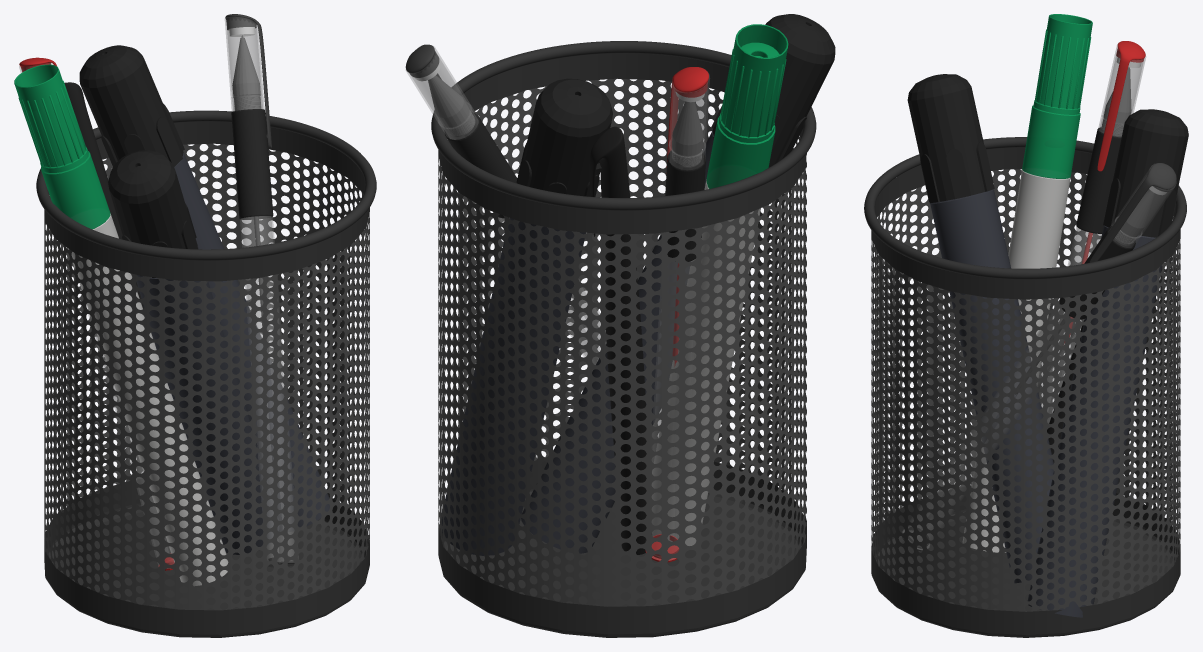
Rendered from pen_holder.glb.
3 renders of one model, left to right at view 1: azimuth 30°, elevation 25°; view 2: azimuth 150°, elevation 25°; view 3: azimuth 270°, elevation 25°, orthographic. The views are drawn at different scales.
Parts seen in each view (by area): view 1: Object008_04 - Default_0, Cylinder001, Object007_11 - Default_0, Object014_Ceramic_0, Cylinder030, Object001_06 - Default_0, Object009_05 - Default_0, Circle001, Object015_11 - Default_0, Cylinder024, Object013_Solid Glass_0, Cylinder026 (+3 smaller); view 2: Object008_04 - Default_0, Cylinder001, Cylinder024, Circle001, Object009_05 - Default_0, Object007_11 - Default_0, Object001_06 - Default_0, Object004_Ceramic_0, Cylinder026, Cylinder030, Object015_11 - Default_0, Object014_Ceramic_0 (+6 smaller); view 3: Object008_04 - Default_0, Cylinder001, Cylinder030, Cylinder024, Object015_11 - Default_0, Object009_05 - Default_0, Object001_06 - Default_0, Object007_11 - Default_0, Circle001, Object014_Ceramic_0, Object004_Ceramic_0, Object002_Solid Glass_0 (+6 smaller).
Boxes of the visible parts, x1=… form: Object008_04 - Default_0: x1=44, y1=143, x2=369, y2=610; Cylinder001: x1=44, y1=121, x2=369, y2=637; Object007_11 - Default_0: x1=79, y1=45, x2=184, y2=166; Object014_Ceramic_0: x1=225, y1=17, x2=298, y2=561; Cylinder030: x1=136, y1=246, x2=279, y2=554; Object001_06 - Default_0: x1=67, y1=213, x2=228, y2=586; Object009_05 - Default_0: x1=14, y1=64, x2=110, y2=229; Circle001: x1=36, y1=110, x2=376, y2=260; Object015_11 - Default_0: x1=108, y1=150, x2=197, y2=277; Cylinder024: x1=174, y1=153, x2=329, y2=531; Object013_Solid Glass_0: x1=231, y1=109, x2=273, y2=219; Cylinder026: x1=64, y1=82, x2=153, y2=338; Object008_04 - Default_0: x1=438, y1=78, x2=806, y2=606; Cylinder001: x1=438, y1=53, x2=806, y2=637; Cylinder024: x1=442, y1=218, x2=585, y2=555; Circle001: x1=431, y1=41, x2=816, y2=210; Object009_05 - Default_0: x1=706, y1=24, x2=788, y2=188; Object007_11 - Default_0: x1=516, y1=78, x2=612, y2=196; Object001_06 - Default_0: x1=652, y1=179, x2=760, y2=545; Object004_Ceramic_0: x1=651, y1=74, x2=709, y2=560; Cylinder026: x1=589, y1=126, x2=651, y2=554; Cylinder030: x1=521, y1=131, x2=713, y2=553; Object015_11 - Default_0: x1=711, y1=14, x2=835, y2=167; Object014_Ceramic_0: x1=406, y1=45, x2=653, y2=448; Object008_04 - Default_0: x1=871, y1=169, x2=1180, y2=611; Cylinder001: x1=871, y1=147, x2=1180, y2=637; Cylinder030: x1=930, y1=189, x2=1053, y2=583; Cylinder024: x1=1027, y1=225, x2=1162, y2=617; Object015_11 - Default_0: x1=907, y1=74, x2=994, y2=202; Object009_05 - Default_0: x1=1022, y1=14, x2=1092, y2=178; Object001_06 - Default_0: x1=962, y1=170, x2=1070, y2=552; Object007_11 - Default_0: x1=1103, y1=109, x2=1188, y2=237; Circle001: x1=864, y1=137, x2=1186, y2=279; Object014_Ceramic_0: x1=902, y1=164, x2=1176, y2=549; Object004_Ceramic_0: x1=1039, y1=44, x2=1145, y2=423; Object002_Solid Glass_0: x1=1076, y1=127, x2=1121, y2=233.
Bounding box in the file's own units: 111 × 176 × 105.
14 materials, 1 textured.
